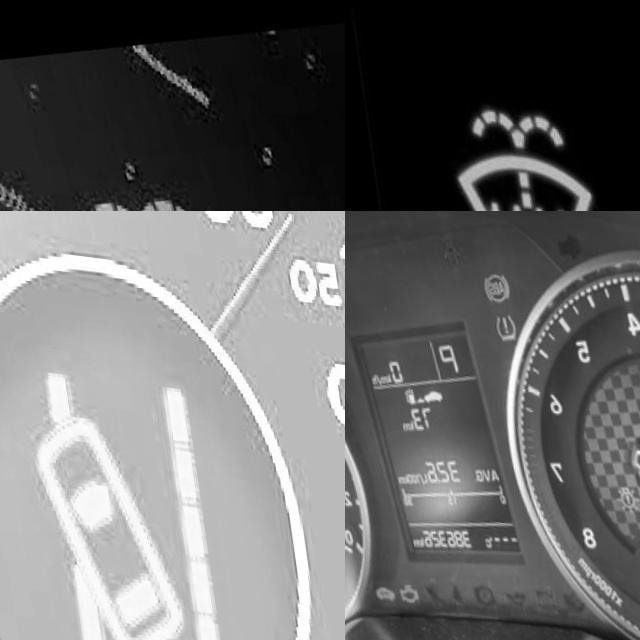Electronic Power Steering: (546, 580, 578, 610)
Washer Fluid: (435, 96, 591, 211)
